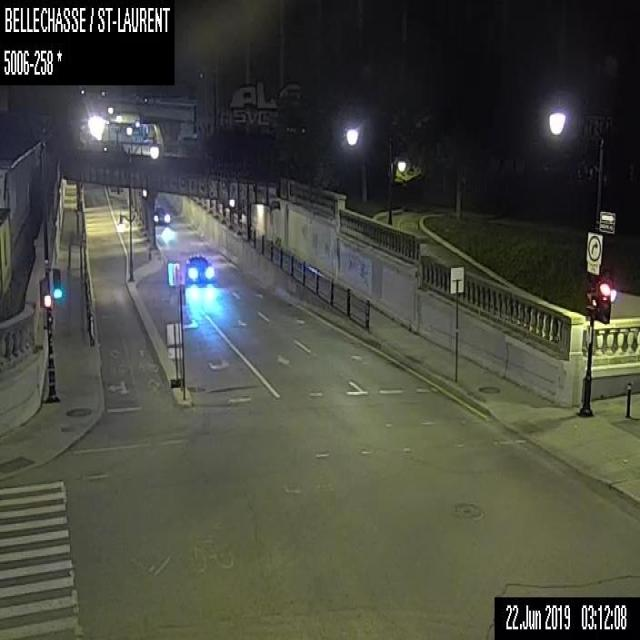vehicle: (185, 254, 214, 281), (153, 206, 169, 224)
